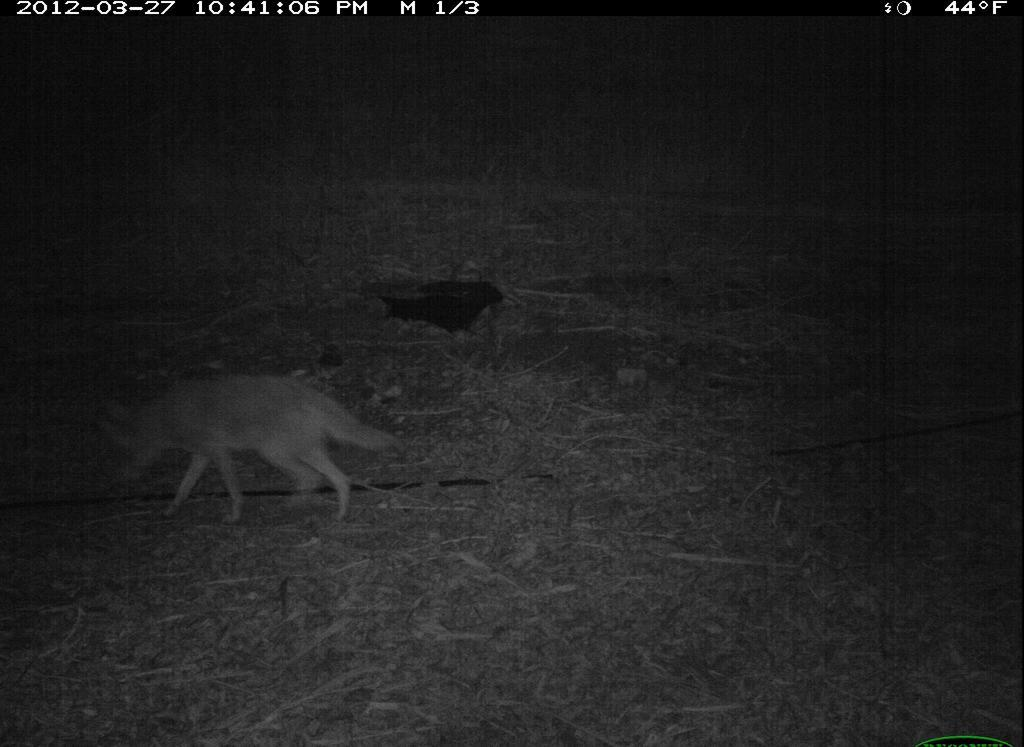coyote: (90, 365, 409, 550)
